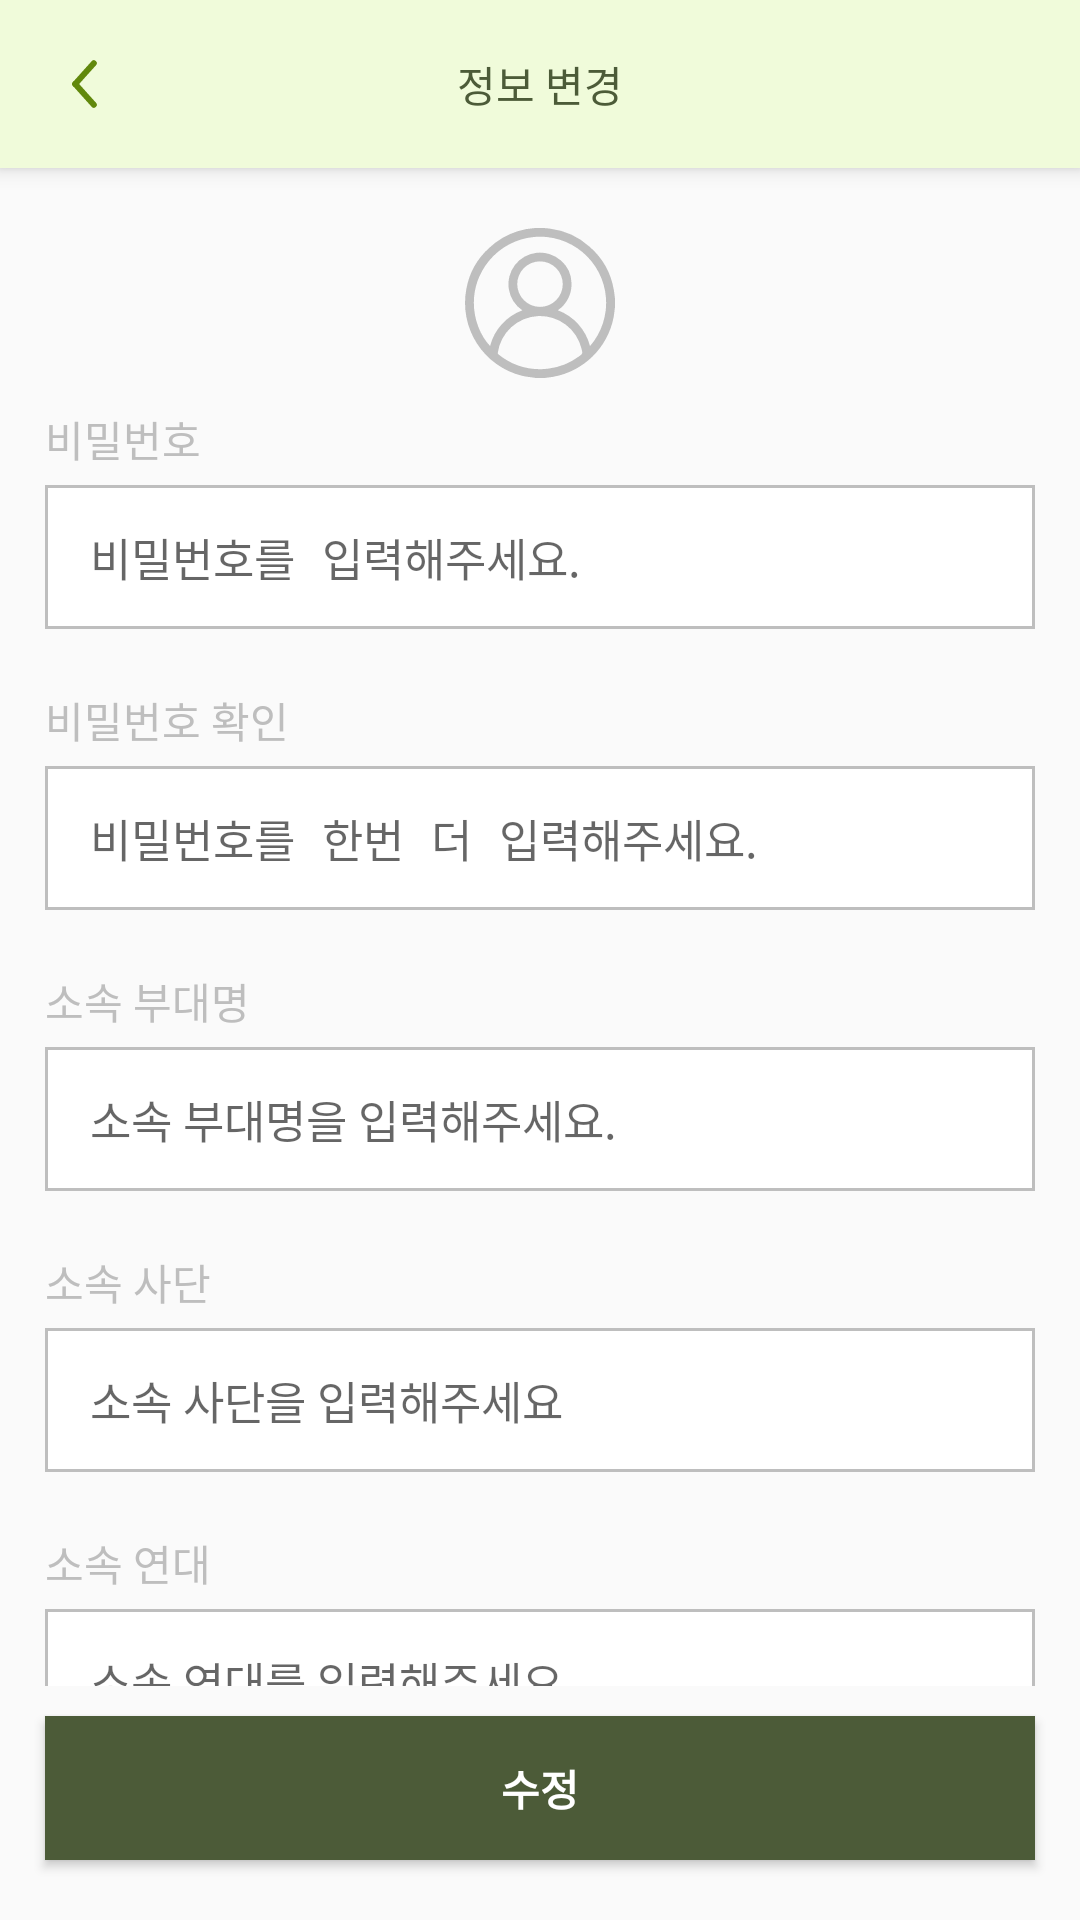

Icons on this 1080×1920 Android screen, each with the point to tap as (x,y):
profile: (540,303)
